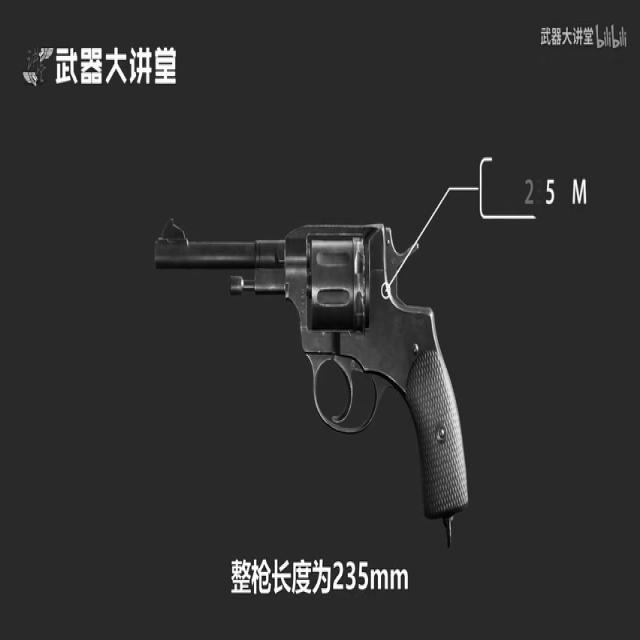Short-Gun: (99, 147, 532, 609)
